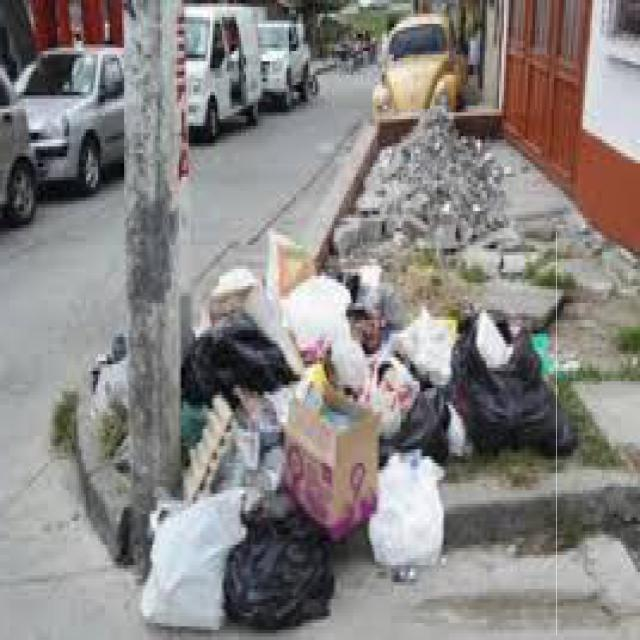Trashbag: (449, 309, 580, 462), (220, 490, 342, 630), (173, 314, 302, 412), (369, 372, 455, 464)
